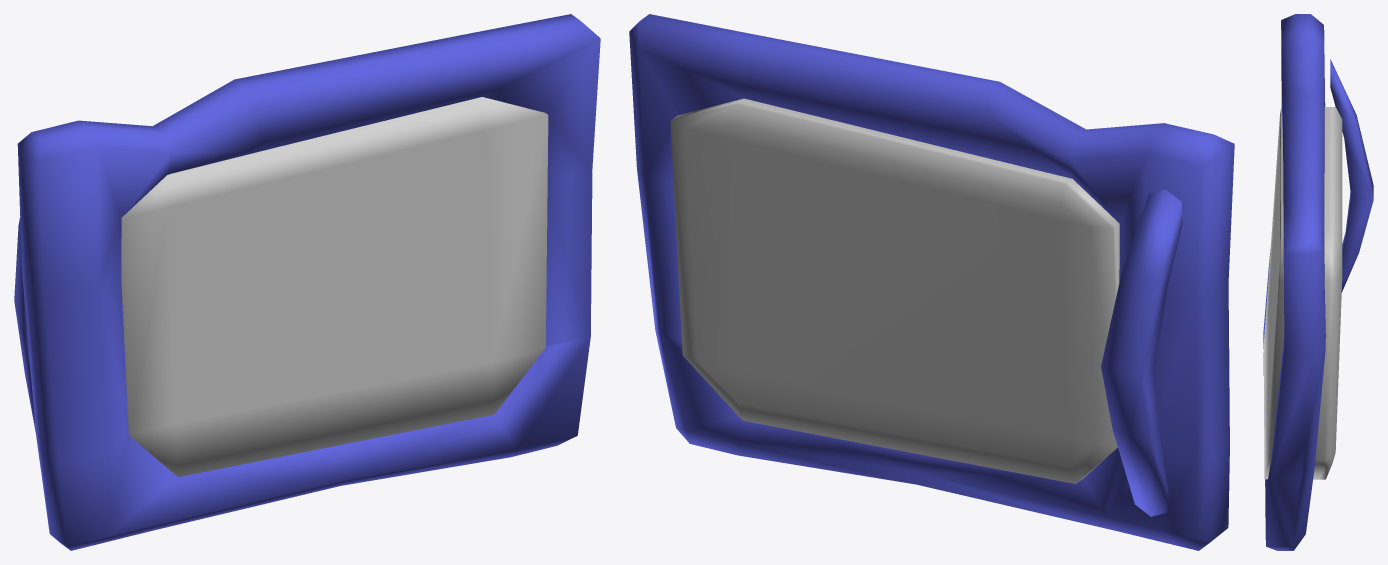
File: SM_DoorMicrowave.fbx
3 views of the same model, side by side, from view 1: azimuth 30°, elevation 25°; view 2: azimuth 150°, elevation 25°; view 3: azimuth 270°, elevation 25° (orthographic). The views are drawn at different scales.
Visible parts, largest first — view 1: SM_DoorMicrowave; view 2: SM_DoorMicrowave; view 3: SM_DoorMicrowave.
Part boxes in pixels (box(x1,y1,x2,y2)): SM_DoorMicrowave: box(14, 14, 600, 550); SM_DoorMicrowave: box(629, 14, 1234, 550); SM_DoorMicrowave: box(1263, 14, 1373, 550).
Size of the model in its own units: 25.15 by 18.06 by 5.31.
